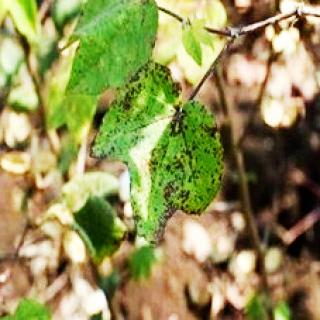leaf spot: (90, 59, 226, 243)
